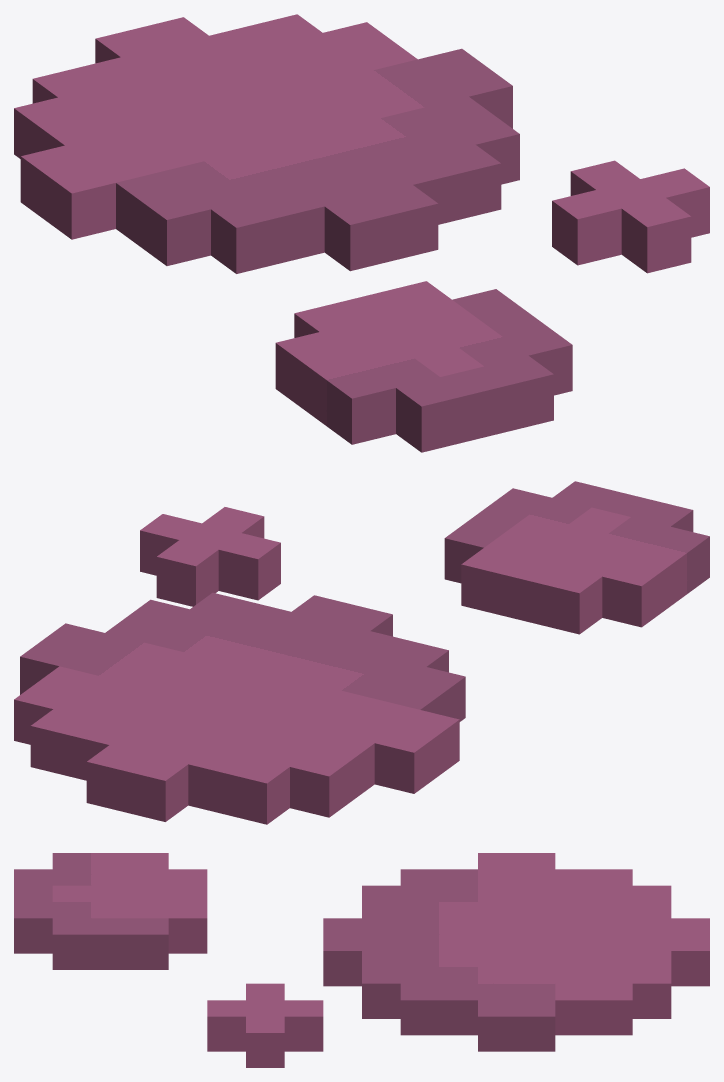
The model's file is Icecream.dae.
3 views of the same model, one above another, from view 1: azimuth 30°, elevation 25°; view 2: azimuth 150°, elevation 25°; view 3: azimuth 270°, elevation 25° (orthographic). The views are drawn at different scales.
Visible parts, largest first — view 1: Icecream; view 2: Icecream; view 3: Icecream.
Boxes of the visible parts, left/top/right/bottom form: Icecream: left=14, top=14, right=709, bottom=452; Icecream: left=14, top=481, right=709, bottom=824; Icecream: left=14, top=853, right=709, bottom=1067.
Bounding box in the file's own units: 11 × 1 × 18.
1 material, 1 textured.
